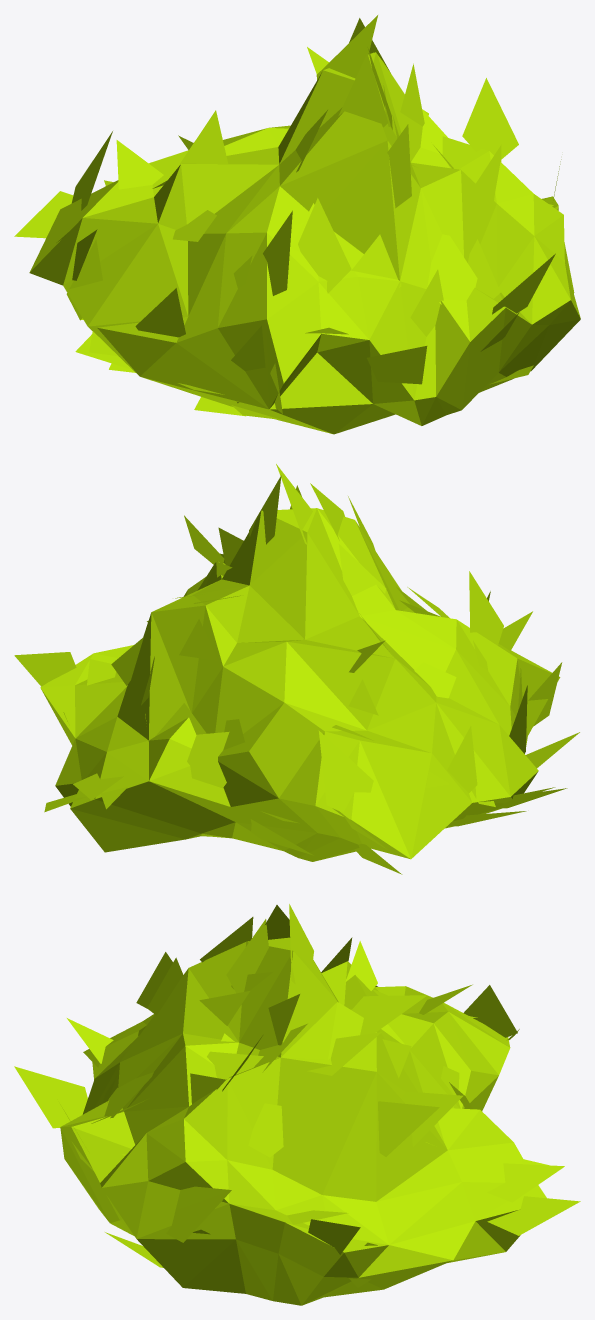
File: SM_Bush_Short_A.fbx
3 views of the same model, one above another, from view 1: azimuth 30°, elevation 25°; view 2: azimuth 150°, elevation 25°; view 3: azimuth 270°, elevation 25° (orthographic). The views are drawn at different scales.
Parts seen in each view (by area): view 1: SM_Bush_Short_A; view 2: SM_Bush_Short_A; view 3: SM_Bush_Short_A.
Part boxes in pixels (left/top/right/bottom): SM_Bush_Short_A: left=14, top=15, right=580, bottom=434; SM_Bush_Short_A: left=14, top=464, right=579, bottom=874; SM_Bush_Short_A: left=14, top=904, right=580, bottom=1305.
Bounding box in the file's own units: 2.41 × 1.63 × 2.3.
